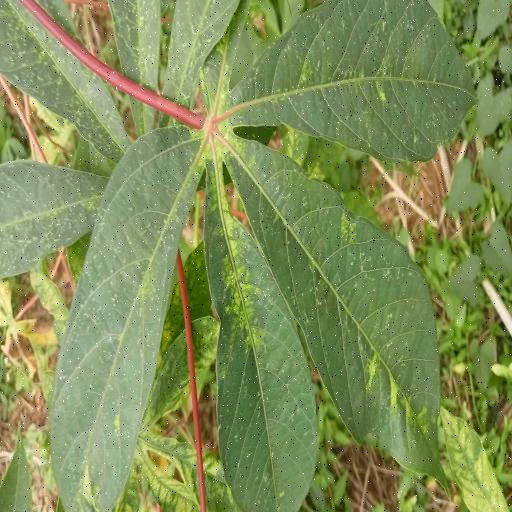Cassava_Mosaic: (48, 0, 478, 512)
